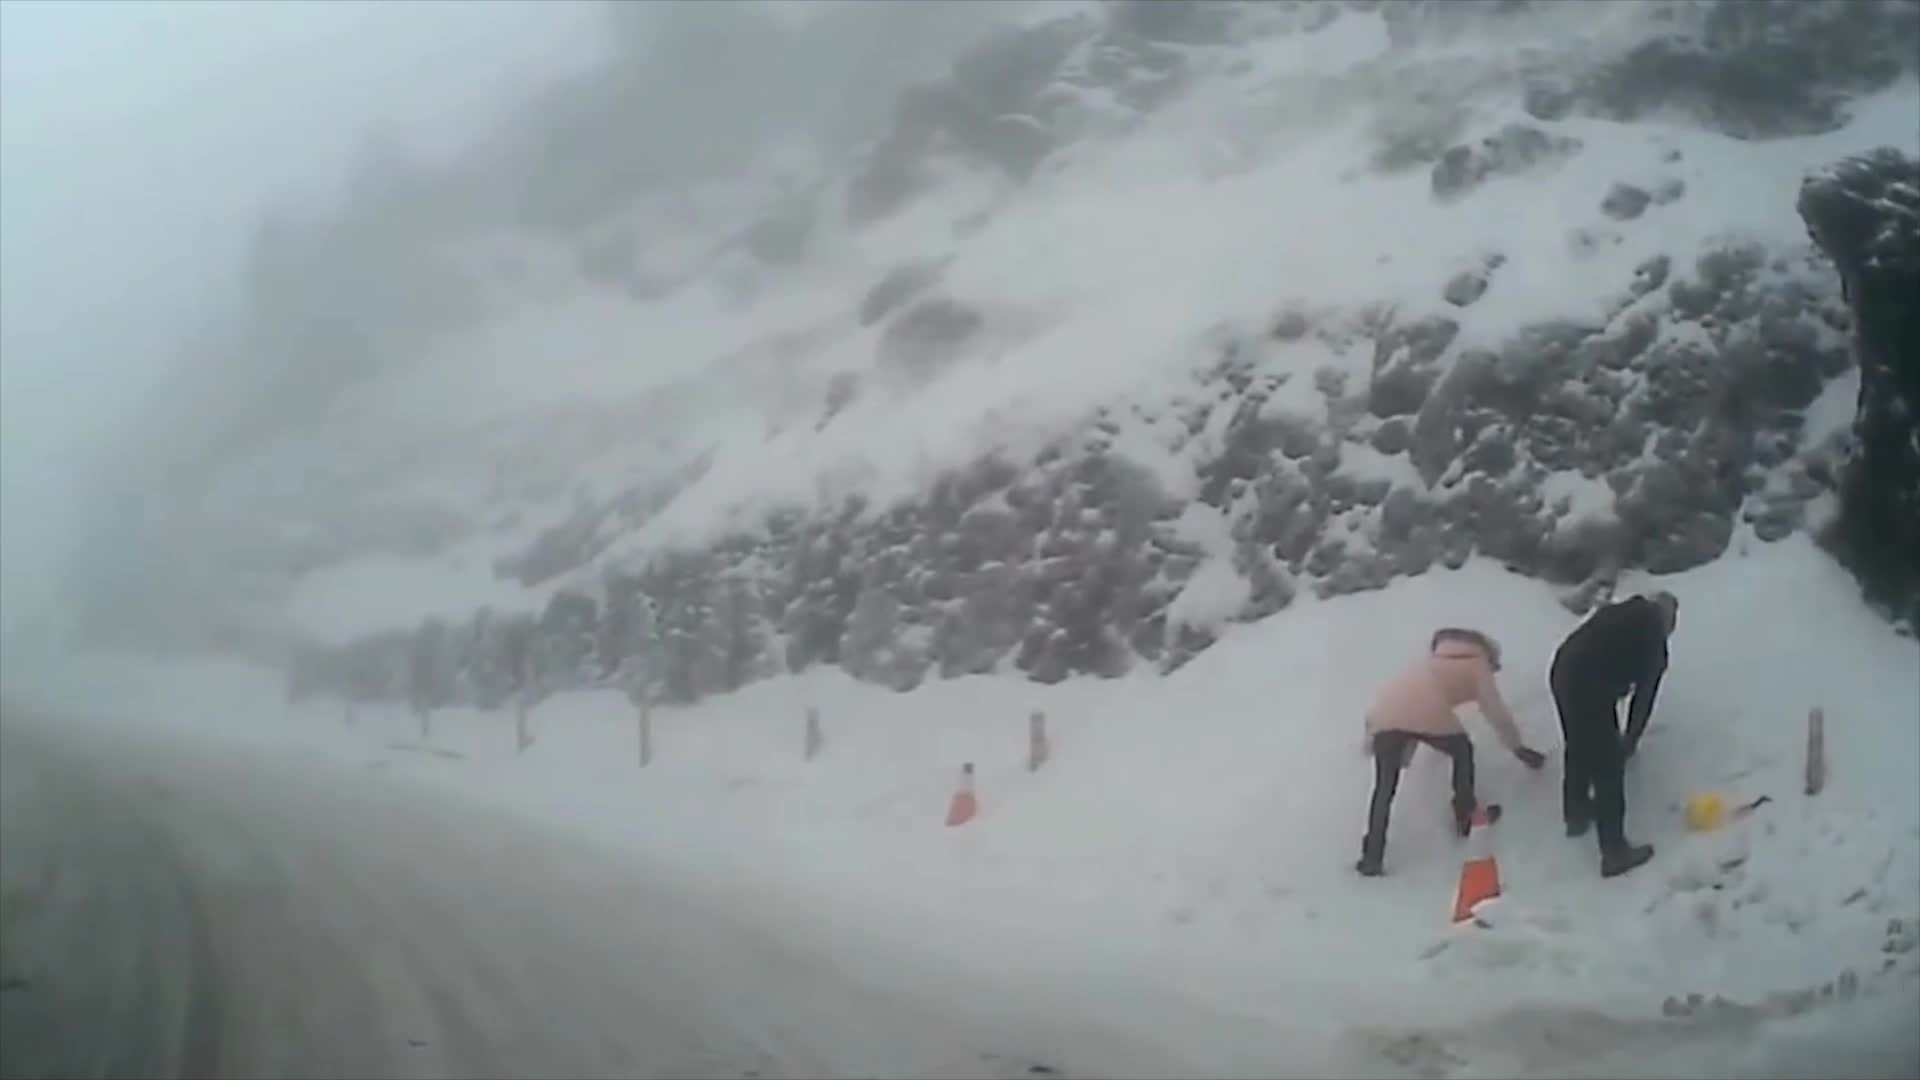pedestrian: (1356, 628, 1536, 875), (1551, 593, 1682, 878)
